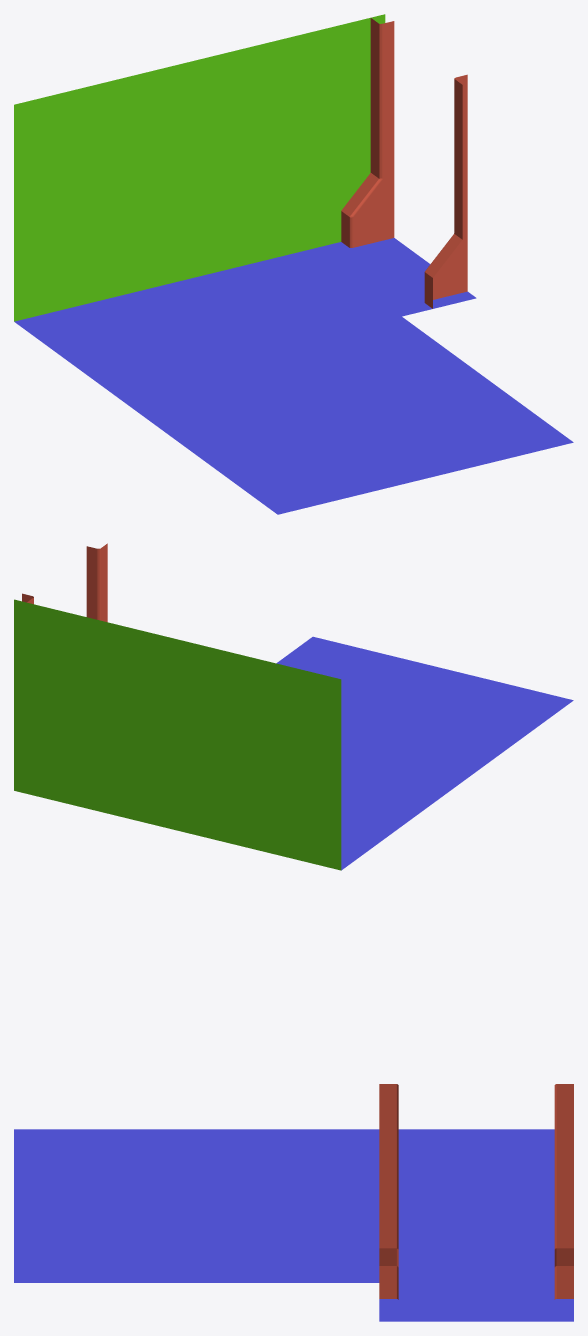
Rendered from L1V2_Small_Passage_P3.fbx.
The picture shows the model from 3 angles, top to bottom: view 1: azimuth 30°, elevation 25°; view 2: azimuth 150°, elevation 25°; view 3: azimuth 270°, elevation 25°; orthographic projection. The views are drawn at different scales.
Visible parts, largest first — view 1: Wall.025; view 2: Wall.025; view 3: Wall.025.
Boxes of the visible parts, box(x1,y1,x2,y2) form: Wall.025: box(14, 14, 573, 514); Wall.025: box(14, 543, 573, 870); Wall.025: box(14, 1084, 573, 1321).
Size of the model in its own units: 1253 by 700 by 1543.
